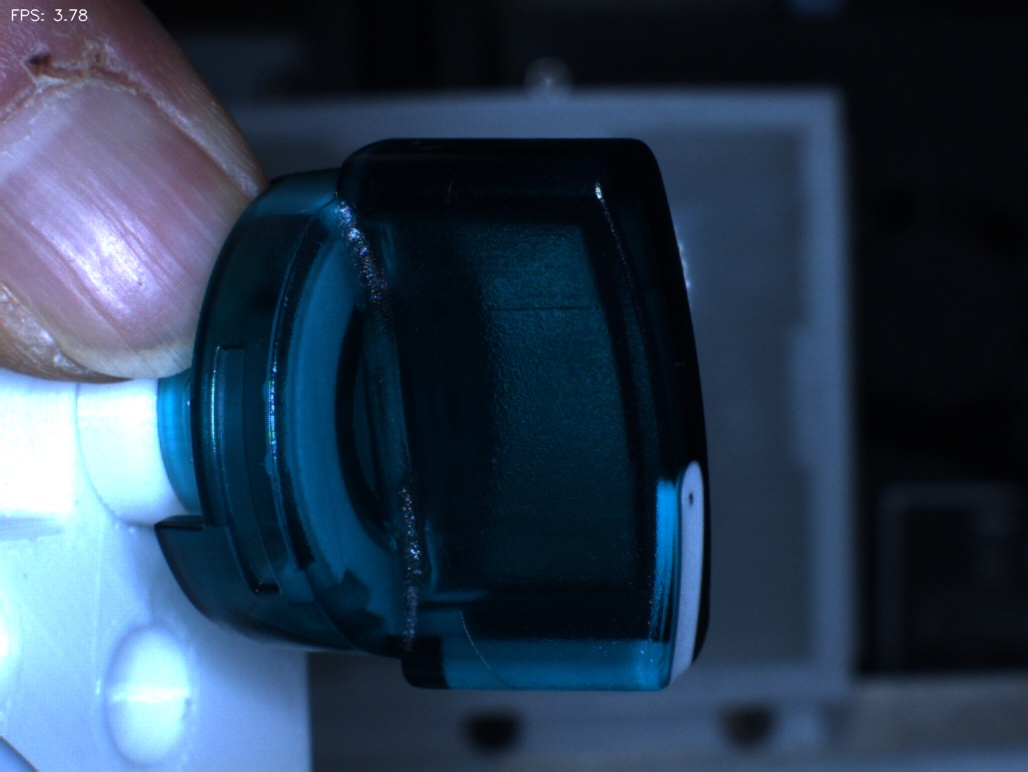PointNoir: (646, 446, 728, 552)
